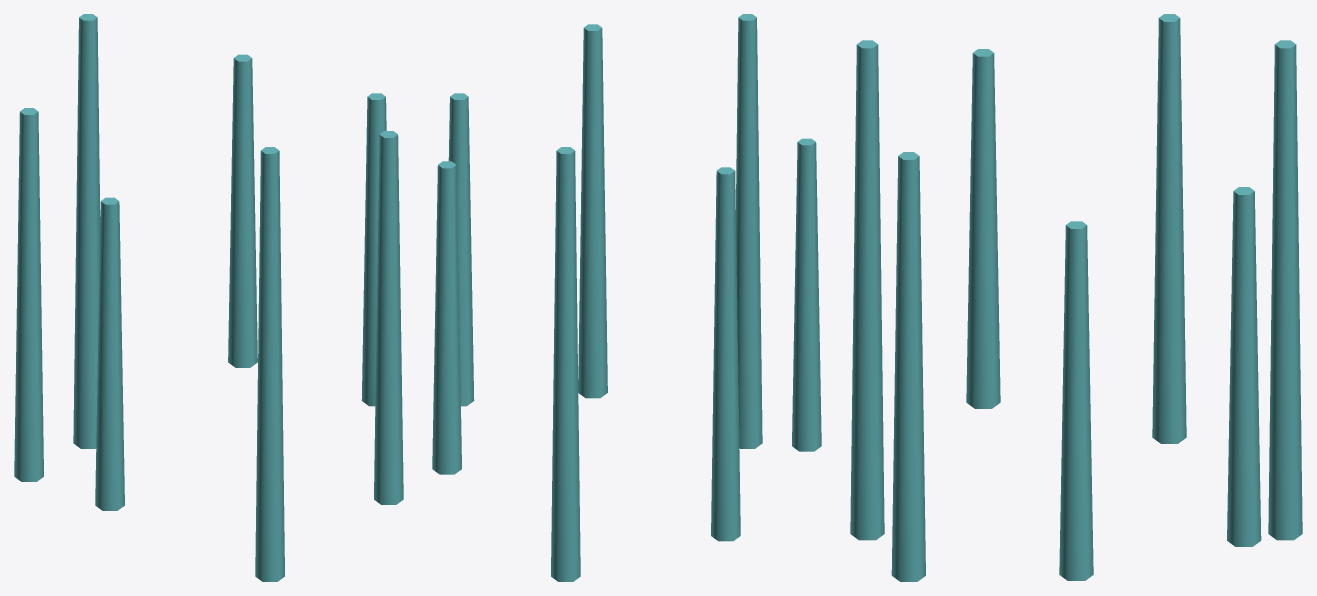
File: water_lily.glb
3 views of the same model, side by side, from view 1: azimuth 30°, elevation 25°; view 2: azimuth 150°, elevation 25°; view 3: azimuth 270°, elevation 25° (orthographic). The views are drawn at different scales.
Parts seen in each view (by area): view 1: reed_2, reed_5, reed_1, reed_4, reed_3, reed_6, reed_0; view 2: reed_5, reed_2, reed_4, reed_1, reed_6, reed_3, reed_0; view 3: reed_2, reed_5, reed_4, reed_1, reed_3, reed_0, reed_6.
Part boxes in pixels (x1,y1,x2,y2): reed_2: (255,147,284,581); reed_5: (73,14,100,448); reed_1: (374,131,403,504); reed_4: (14,108,43,481); reed_3: (95,197,124,510); reed_6: (228,54,257,367); reed_0: (361,93,386,406); reed_5: (551,147,580,581); reed_2: (735,14,762,448); reed_4: (711,167,740,541); reed_1: (578,24,607,398); reed_6: (432,161,461,474); reed_3: (792,138,821,451); reed_0: (448,93,474,406); reed_2: (850,40,884,540); reed_5: (1268,40,1302,540); reed_4: (1152,14,1186,443); reed_1: (891,152,925,581); reed_3: (966,49,1000,408); reed_0: (1059,221,1093,580); reed_6: (1227,187,1261,546).
Size of what is drawn, in the model's own units: 1.02 by 1.26 by 1.05.
